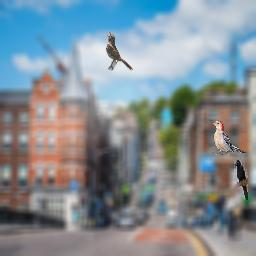Crow: (234, 160, 248, 200)
Sparrow: (106, 31, 133, 71)
Woodpecker: (208, 119, 248, 155)
